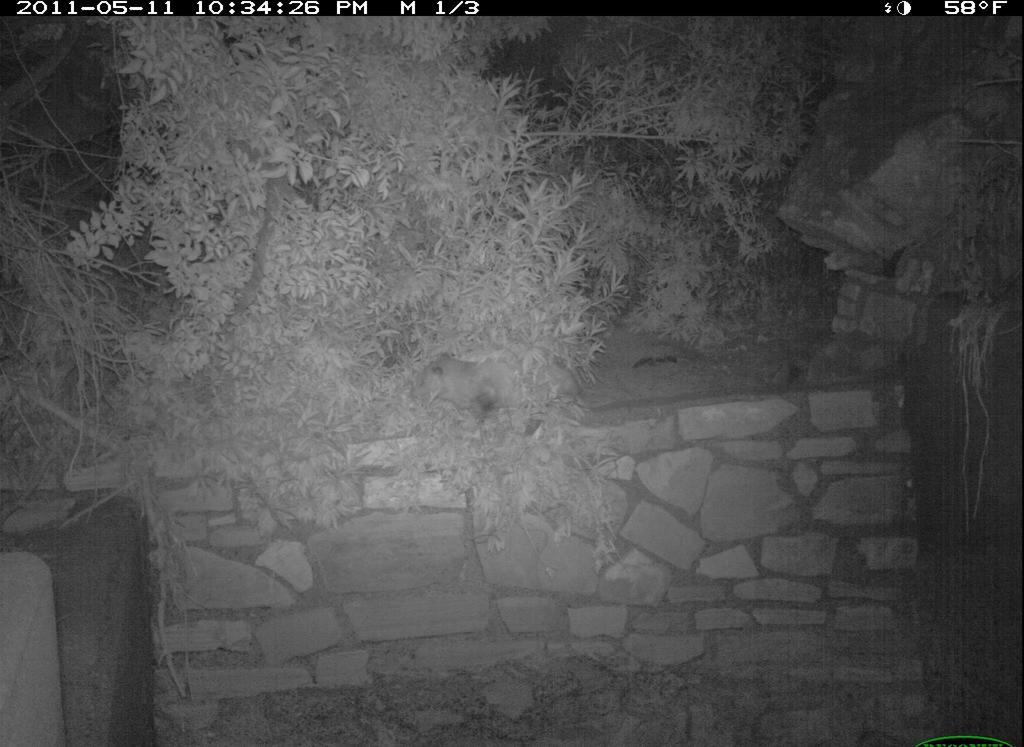opossum: (396, 338, 573, 450)
